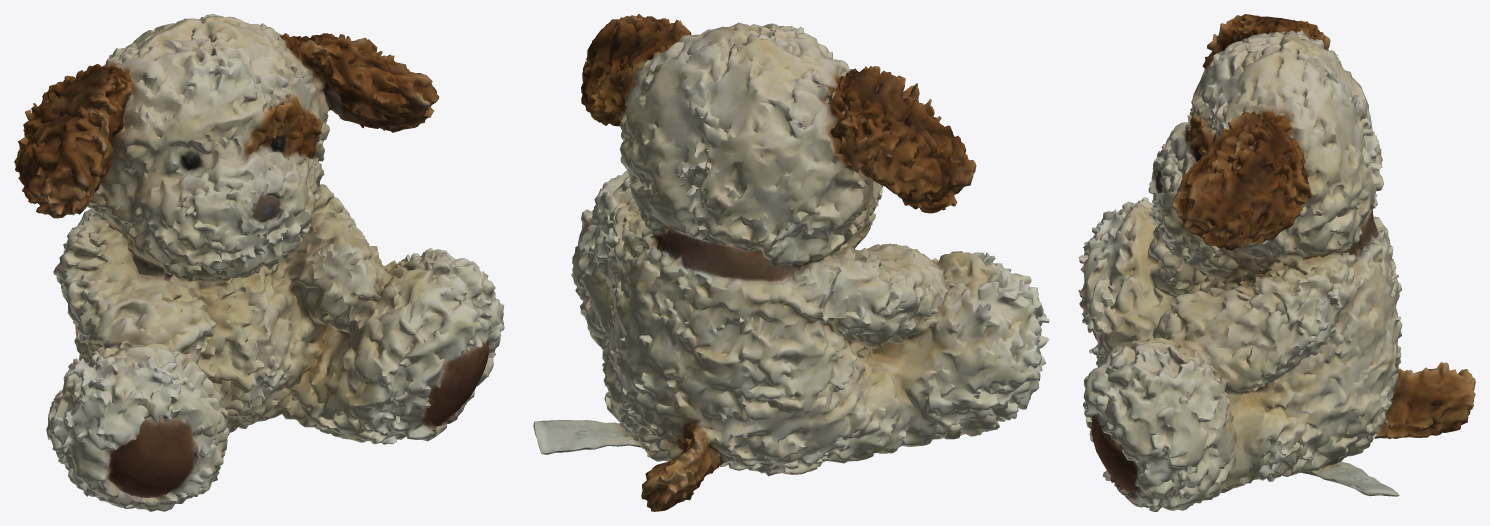
The model's file is Dog.glb.
3 renders of one model, left to right at view 1: azimuth 30°, elevation 25°; view 2: azimuth 150°, elevation 25°; view 3: azimuth 270°, elevation 25°, orthographic. The views are drawn at different scales.
Visible parts, largest first — view 1: Dog; view 2: Dog; view 3: Dog.
Boxes of the visible parts, left/top/right/bottom form: Dog: left=14, top=14, right=504, bottom=511; Dog: left=533, top=14, right=1049, bottom=511; Dog: left=1078, top=14, right=1475, bottom=511.
Bounding box in the file's own units: 0.232 × 0.1993 × 0.1861.
Materials: 1 (1 with a texture image).
